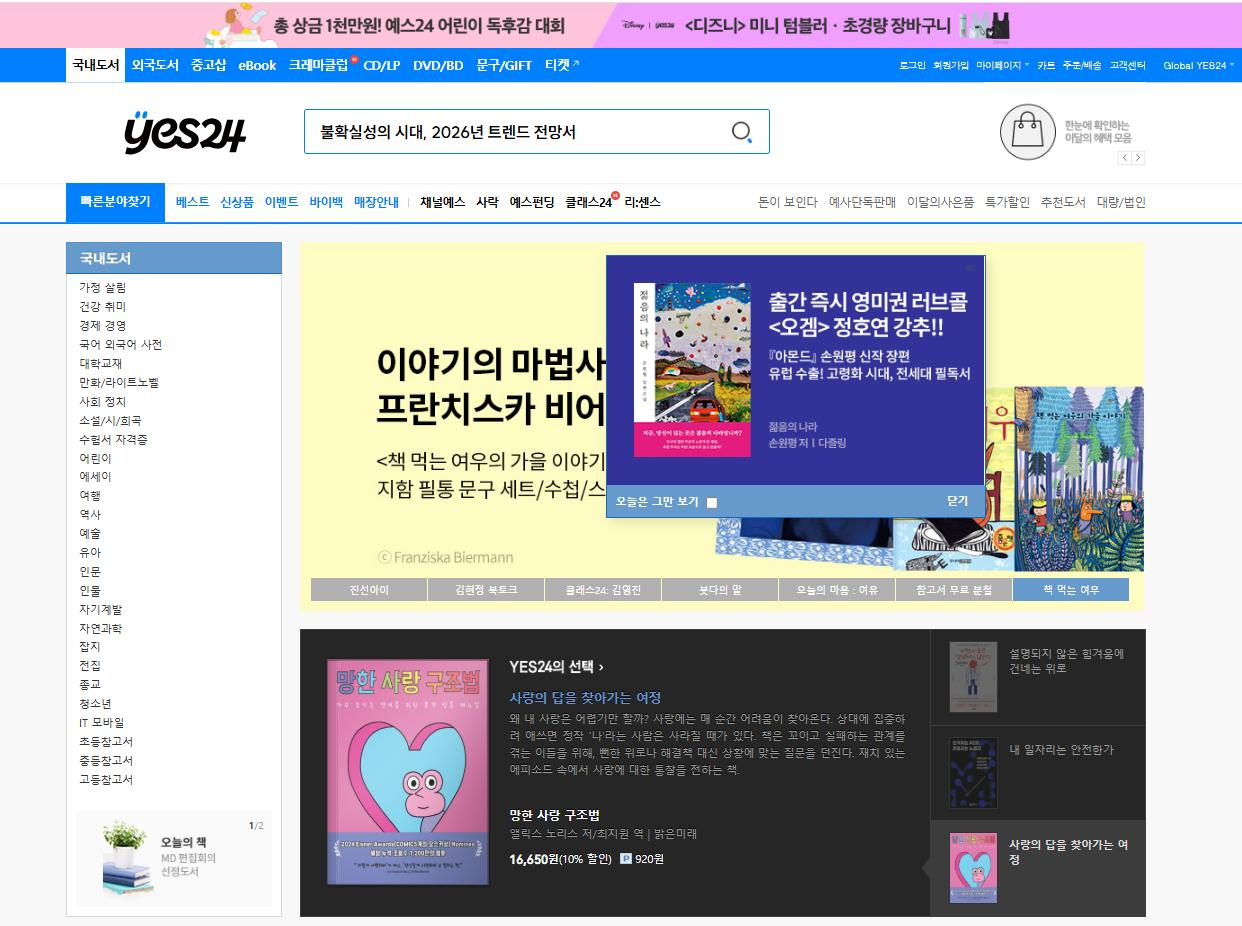button: (292, 47, 355, 83), (1161, 50, 1241, 78), (75, 369, 162, 393), (126, 45, 184, 78), (74, 336, 168, 356), (407, 46, 469, 76), (357, 47, 408, 82), (476, 50, 538, 78), (978, 50, 1035, 79), (1053, 51, 1109, 79), (77, 405, 143, 427), (77, 387, 132, 412), (353, 188, 404, 214), (219, 186, 262, 215), (240, 53, 289, 78), (71, 754, 139, 772), (77, 732, 141, 751), (72, 770, 136, 789), (76, 712, 132, 733), (192, 51, 234, 79), (306, 188, 348, 215), (621, 185, 663, 210), (76, 54, 125, 75), (263, 189, 304, 214), (547, 50, 585, 76), (509, 189, 556, 210), (63, 602, 128, 617), (1111, 55, 1155, 77), (75, 320, 129, 337), (566, 194, 620, 211), (74, 280, 135, 295), (176, 188, 215, 211), (935, 51, 969, 77), (80, 300, 131, 317), (891, 54, 932, 75), (421, 197, 474, 212), (77, 355, 127, 370), (76, 694, 115, 713), (75, 624, 127, 637), (479, 190, 505, 214), (78, 435, 145, 444), (71, 526, 106, 543), (76, 469, 121, 482), (76, 544, 107, 562), (75, 673, 106, 691), (78, 446, 110, 463), (1119, 148, 1146, 168), (77, 562, 104, 581), (79, 507, 104, 527), (77, 653, 102, 673), (944, 488, 971, 506), (77, 581, 100, 602), (1038, 49, 1054, 77), (74, 642, 98, 654), (85, 485, 98, 502)
checkbox: (611, 491, 720, 514)
input_field: (302, 108, 771, 154)
popup: (608, 255, 988, 518), (0, 0, 1241, 47)
